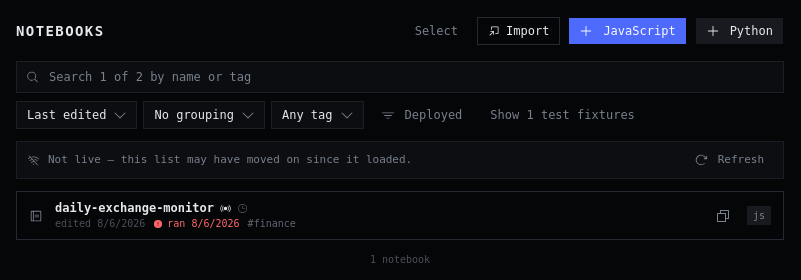
selecting, which is how deleting starts now › cannot delete nothing
Expected: the text "daily-exchange-monitor" is shown, [55,200,214,216]
Click the button "Select" at (436, 31), box [404,17,469,45]
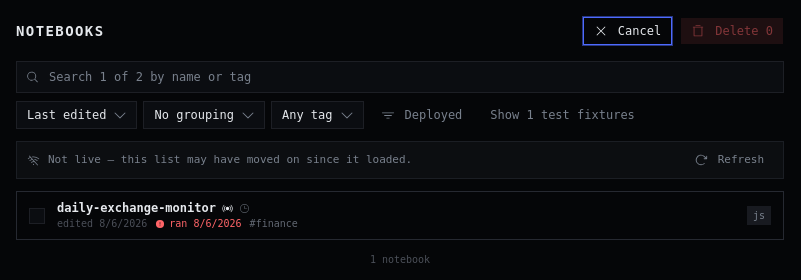
Now the button "Delete 0" is disabled, box [680,17,784,45]
